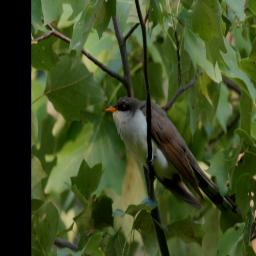Cuckoo: (105, 92, 243, 215)
